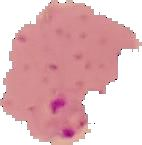parasitized: (44, 92, 89, 145)
